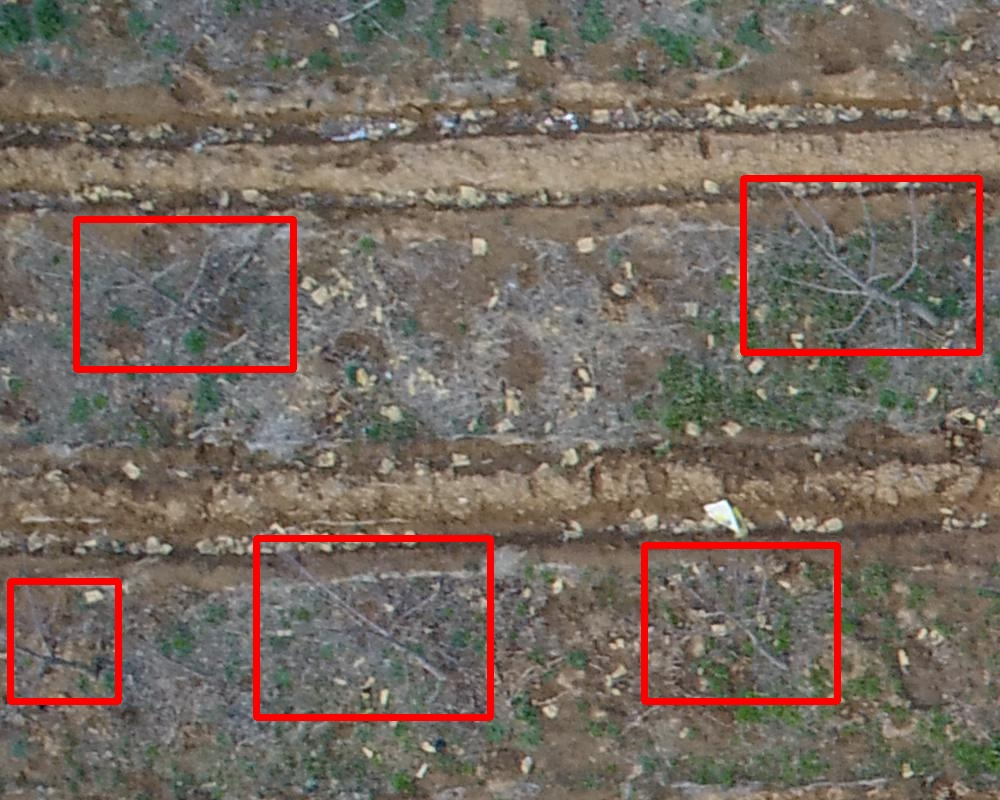apple: (256, 538, 490, 717), (743, 178, 979, 352), (76, 219, 293, 369), (644, 545, 837, 701), (10, 581, 118, 701)
